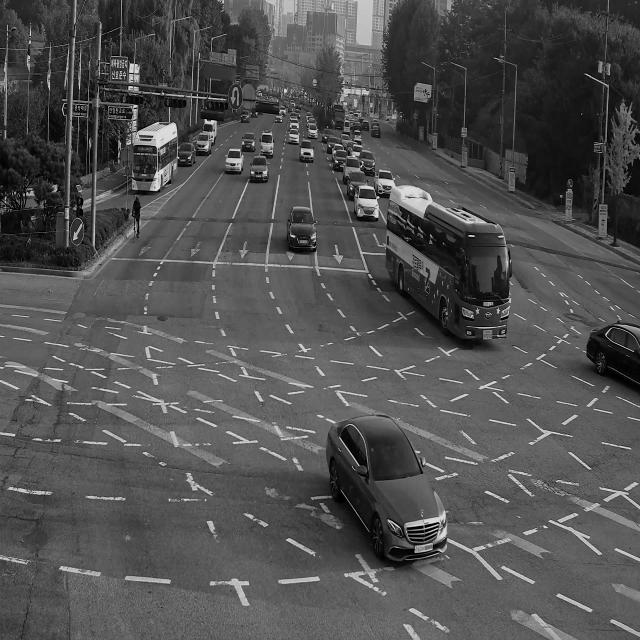Bus: (381, 179, 520, 363), (126, 118, 186, 200)
Car: (316, 403, 460, 582), (581, 306, 640, 403), (285, 200, 319, 255), (352, 184, 381, 222), (372, 166, 397, 198), (248, 153, 271, 187), (223, 147, 246, 177), (347, 170, 369, 199), (178, 141, 198, 171), (356, 148, 376, 176), (192, 132, 214, 157), (237, 130, 257, 155), (297, 138, 315, 165), (343, 156, 360, 178), (333, 148, 348, 169), (288, 127, 301, 147), (306, 124, 321, 139), (326, 134, 339, 151), (322, 124, 334, 142), (332, 142, 344, 160), (346, 138, 358, 156), (339, 132, 351, 148), (352, 144, 364, 160), (240, 108, 251, 125), (370, 125, 382, 139), (342, 118, 352, 134), (288, 118, 300, 131), (353, 130, 362, 146), (274, 110, 282, 124), (250, 106, 258, 119), (354, 120, 362, 133), (280, 104, 287, 118), (308, 118, 317, 128), (369, 118, 378, 128), (294, 107, 301, 119), (362, 120, 369, 132), (352, 113, 360, 123), (357, 116, 365, 125), (348, 118, 355, 128), (296, 100, 302, 111), (356, 108, 362, 118), (349, 110, 355, 120), (287, 103, 293, 112), (307, 115, 313, 124), (290, 112, 297, 119), (290, 98, 296, 106), (306, 110, 312, 118), (284, 100, 288, 108)
Truck: (258, 129, 279, 160), (203, 114, 220, 140), (331, 102, 344, 130)
